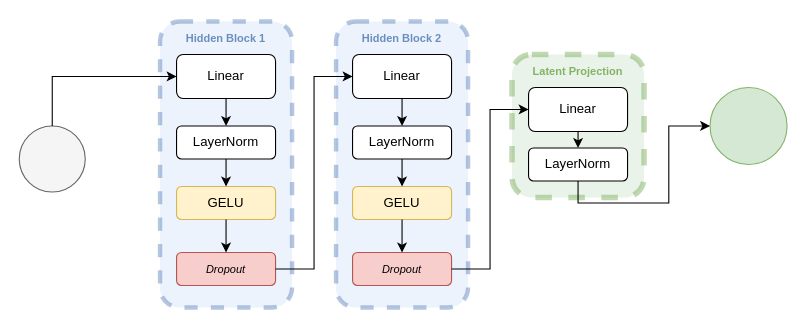
This 806x328 diagram has some shape labels left out. The centre of each missing label's shape, as x and y in pixels:
"Input x ∈ ℝ dim" goes at pixel 51 158.
"Latent z ∈ ℝ n" goes at pixel 748 125.
